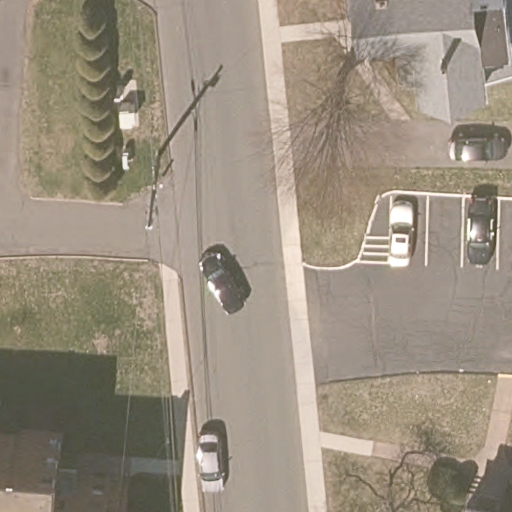DT: (142, 153, 164, 232)
